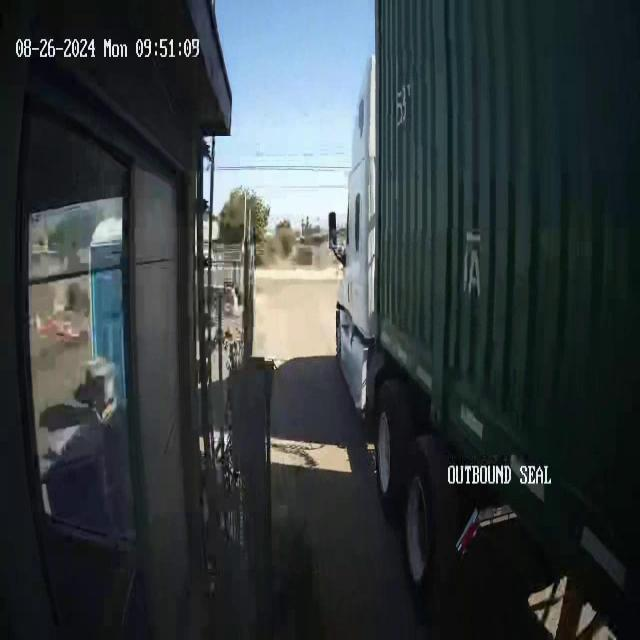TRUCK_OUT: (335, 1, 639, 598)
